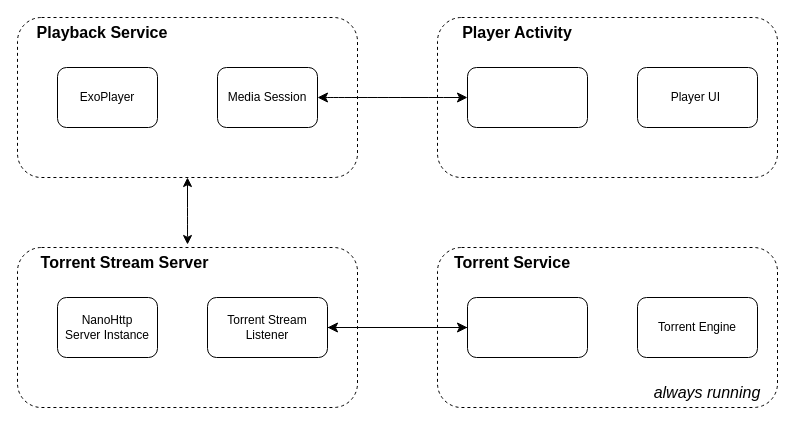
This 795x425 diagram has some shape labels left out. Here are the shapes that lost their labels. From the top down, the box of each, then its label:
(466, 66, 588, 128): Media Controller
(466, 296, 588, 358): Torrent Handle
